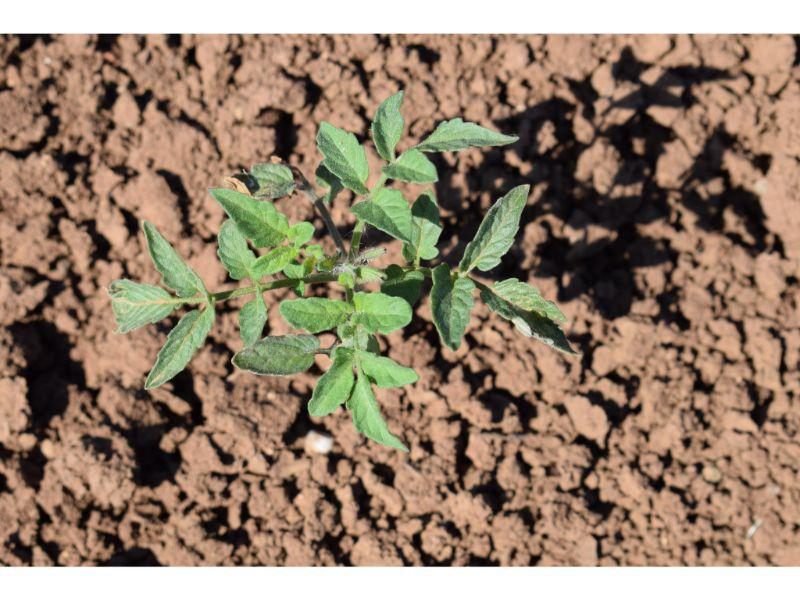tomato: (110, 91, 576, 452)
